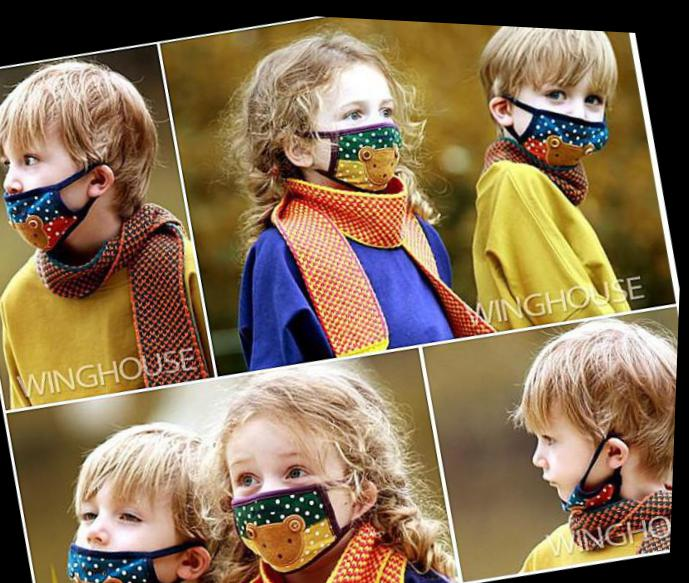OK: (223, 430, 362, 578), (304, 82, 416, 194)
WRONG: (1, 113, 123, 255), (63, 474, 208, 583), (505, 49, 618, 164), (529, 404, 631, 515)
